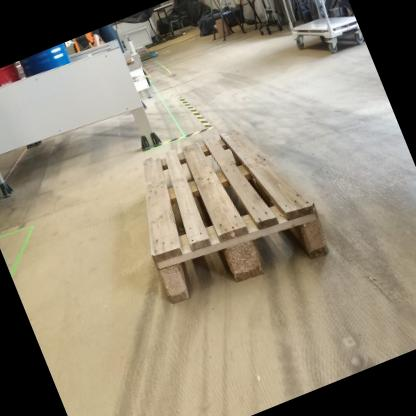BoxFace: (140, 120, 337, 311)
